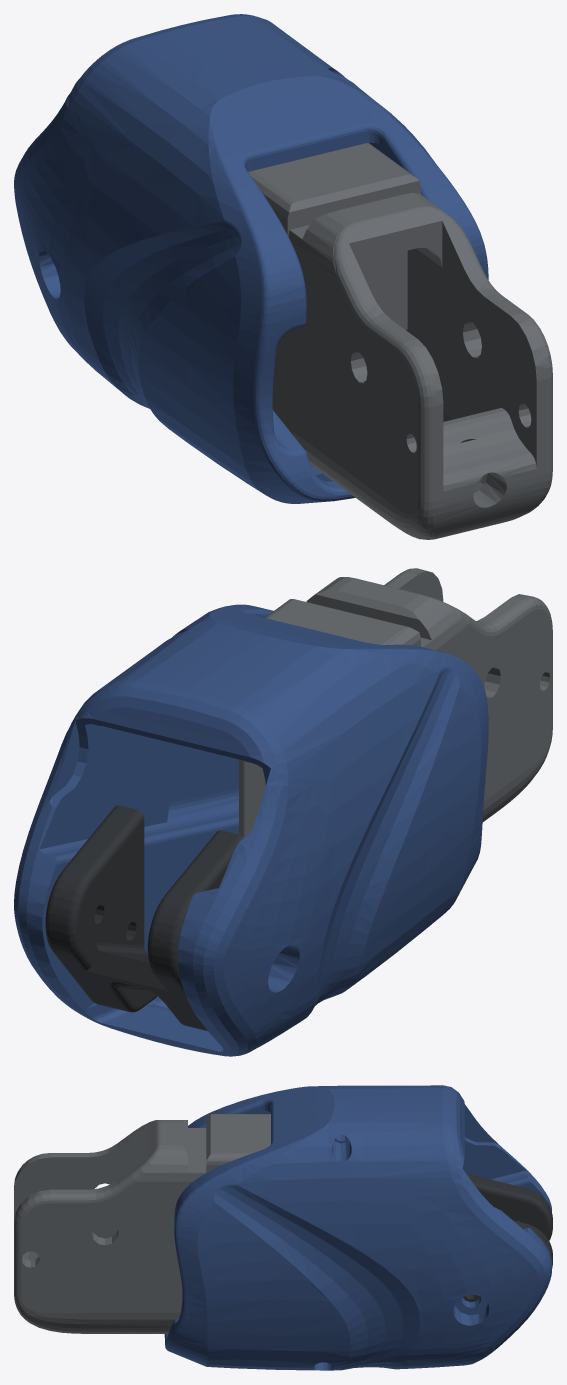
File: lh_thumb_metacarpals_vis.obj
3 renders of one model, top to bottom at view 1: azimuth 30°, elevation 25°; view 2: azimuth 150°, elevation 25°; view 3: azimuth 270°, elevation 25°, orthographic. The views are drawn at different scales.
Visible parts, largest first — view 1: lh_thumb_metacarpals; view 2: lh_thumb_metacarpals; view 3: lh_thumb_metacarpals.
Boxes of the visible parts, bbox=[...] form: lh_thumb_metacarpals: bbox=[14, 14, 552, 539]; lh_thumb_metacarpals: bbox=[14, 568, 552, 1056]; lh_thumb_metacarpals: bbox=[14, 1085, 552, 1370].
Size of the model in its own units: 0.0223 by 0.0303 by 0.0594.
1 material, 1 textured.
